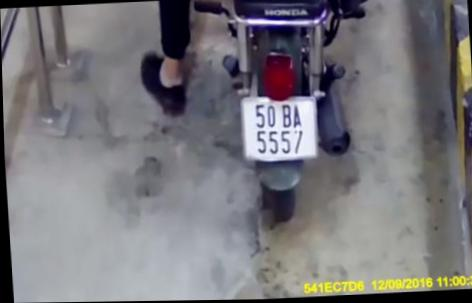LP: (238, 94, 319, 163)
